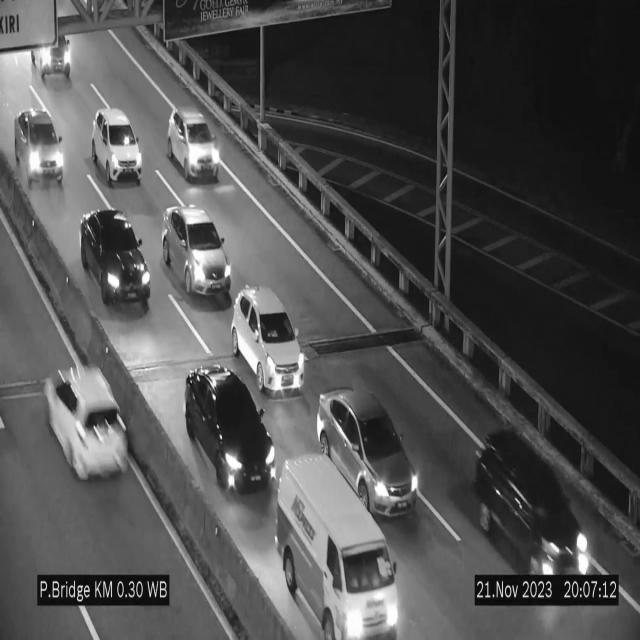Car: (277, 458, 399, 640), (185, 364, 277, 523), (316, 386, 418, 520), (37, 358, 135, 492), (231, 288, 305, 392), (81, 210, 150, 311), (162, 206, 231, 298), (92, 108, 143, 186), (168, 108, 220, 182), (18, 113, 66, 186), (31, 17, 74, 77)
Motorcycle: (473, 428, 592, 574)
